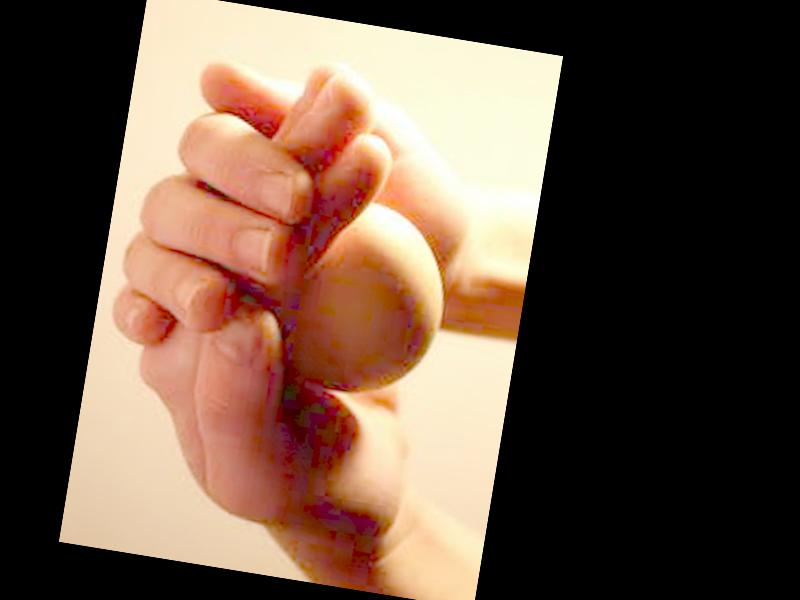Eggs: (281, 193, 457, 407)
